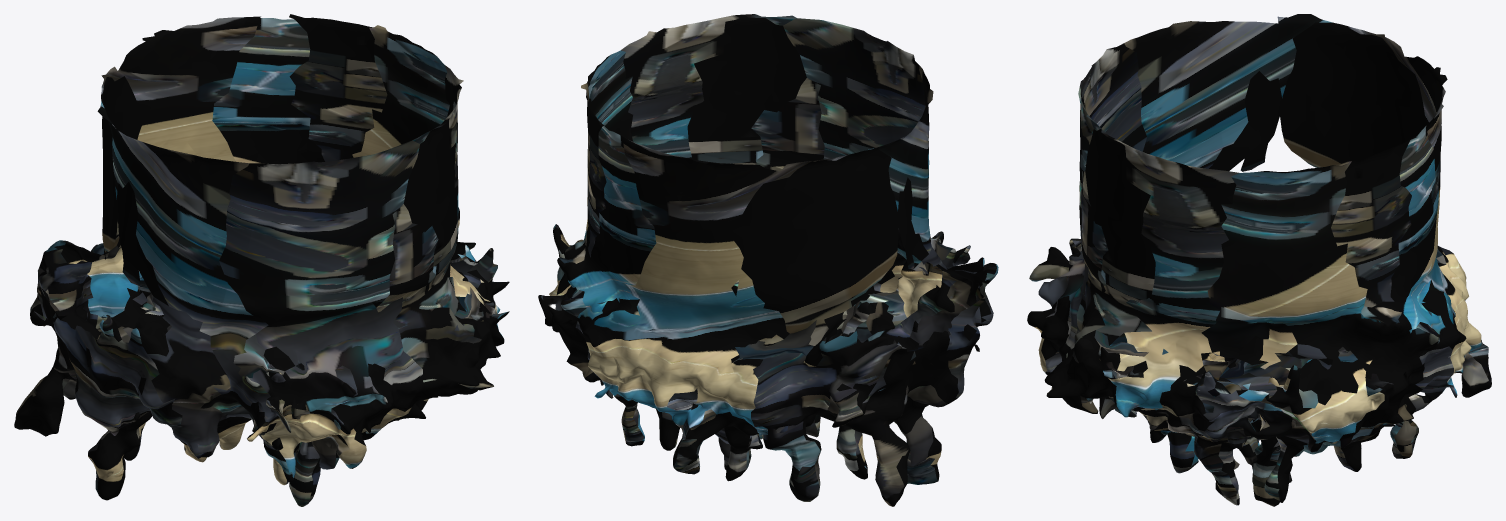
The picture shows the model from 3 angles, left to right: view 1: azimuth 30°, elevation 25°; view 2: azimuth 150°, elevation 25°; view 3: azimuth 270°, elevation 25°; orthographic projection. The views are drawn at different scales.
Bounding box in the file's own units: 1.35 × 1.23 × 1.29.
